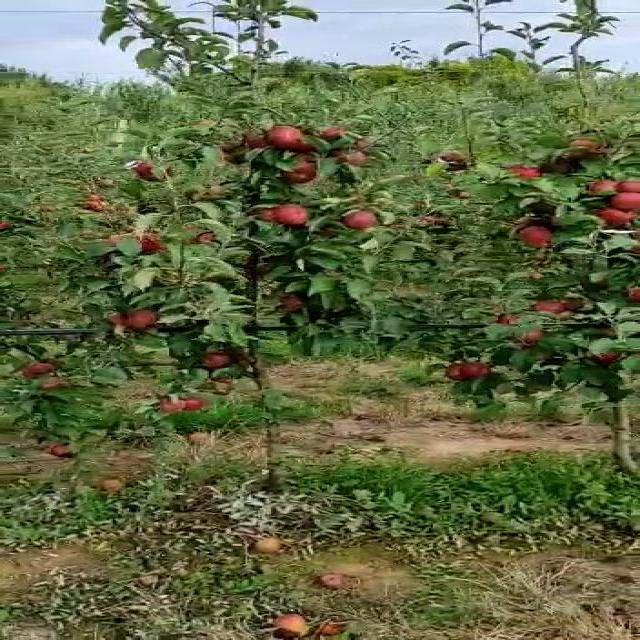100-_ripeness: (129, 156, 173, 181), (285, 157, 322, 186), (329, 210, 382, 228), (274, 201, 311, 226), (116, 306, 158, 328), (269, 122, 302, 150), (447, 362, 493, 379), (533, 299, 580, 315), (442, 146, 471, 171), (516, 227, 554, 246), (200, 351, 235, 371), (157, 399, 206, 413), (507, 164, 538, 185), (582, 178, 620, 195), (509, 325, 544, 343), (609, 191, 640, 208), (248, 207, 276, 219), (31, 362, 54, 374)
